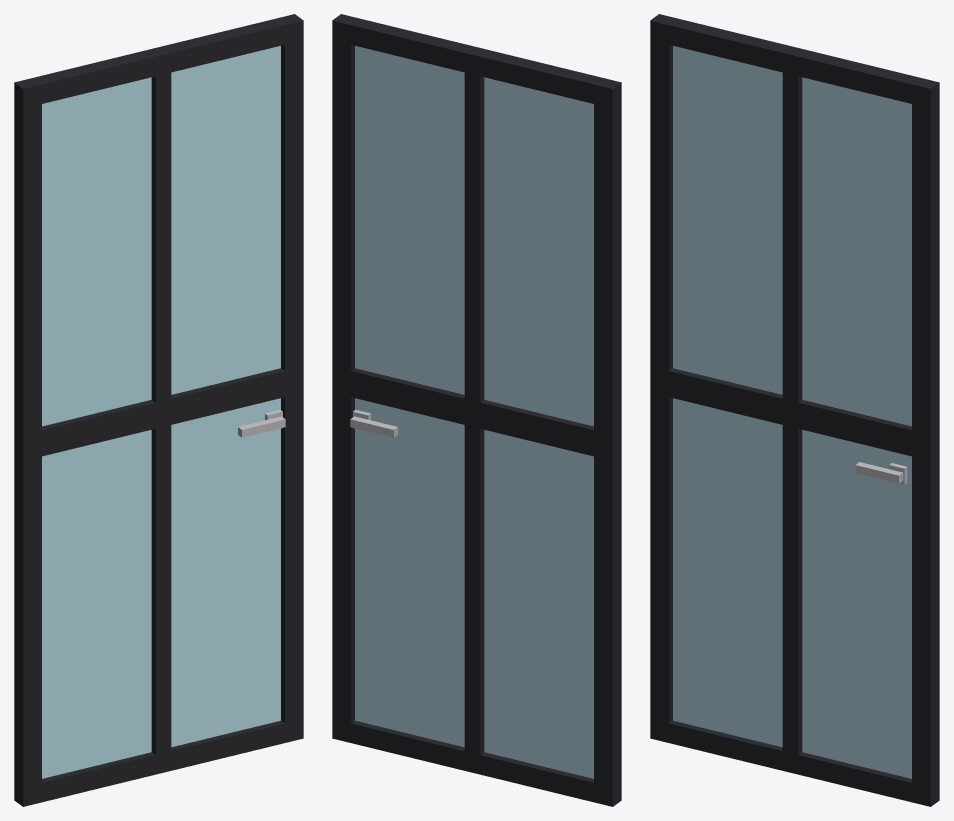
Rendered from door_glass_white.fbx.
3 views of the same model, side by side, from view 1: azimuth 30°, elevation 25°; view 2: azimuth 150°, elevation 25°; view 3: azimuth 330°, elevation 25° (orthographic).
Parts seen in each view (by area): view 1: GlassDoor; view 2: GlassDoor; view 3: GlassDoor.
Part boxes in pixels (x1,y1,x2,y2): GlassDoor: [14, 14, 303, 806]; GlassDoor: [332, 14, 621, 806]; GlassDoor: [650, 14, 939, 806].
Size of the model in its own units: 90 by 220 by 12.6.
